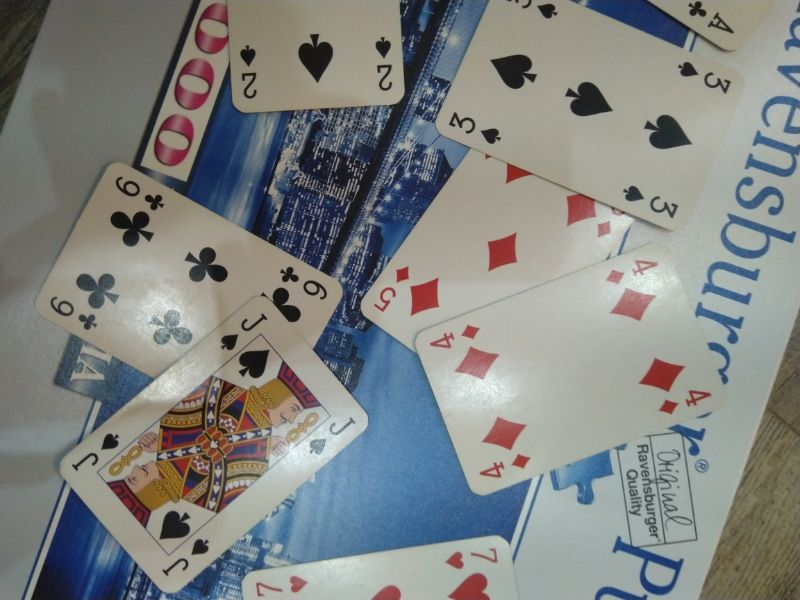2s: (368, 32, 404, 99), (233, 40, 268, 107)
3s: (609, 174, 687, 227), (669, 55, 738, 101), (443, 106, 507, 151)
4d: (599, 248, 663, 291), (473, 447, 537, 485), (656, 382, 717, 421), (425, 322, 487, 356)
5d: (372, 259, 415, 321)
6c: (267, 251, 332, 306), (109, 168, 172, 214), (43, 290, 106, 334)
7h: (438, 540, 508, 575), (247, 568, 311, 600)
Ac: (680, 1, 741, 40)
Js: (68, 426, 128, 480), (302, 408, 358, 464), (159, 530, 218, 582), (214, 305, 270, 358)
